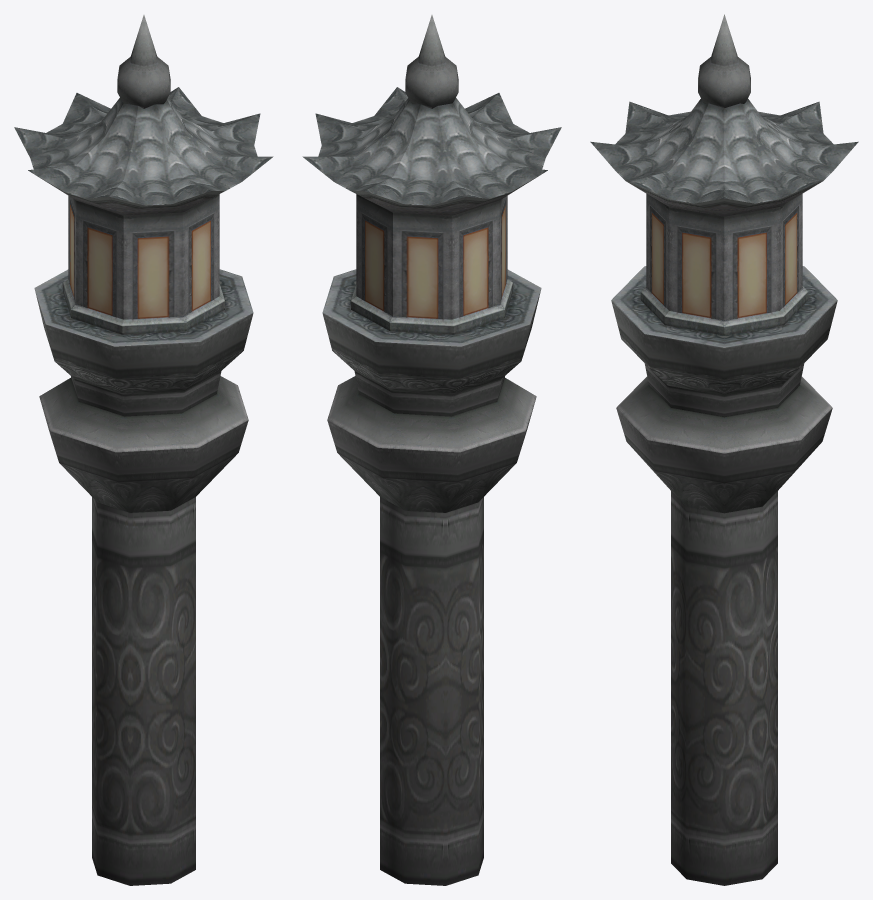
File: q01a_thing_03.FBX
3 renders of one model, left to right at view 1: azimuth 30°, elevation 25°; view 2: azimuth 150°, elevation 25°; view 3: azimuth 270°, elevation 25°, orthographic.
Visible parts, largest first — view 1: q01a_thing_03; view 2: q01a_thing_03; view 3: q01a_thing_03.
Boxes of the visible parts, x1,y1,x2,y2 form: q01a_thing_03: (14, 15, 273, 885); q01a_thing_03: (302, 15, 561, 885); q01a_thing_03: (590, 14, 858, 885).
Size of the model in its own units: 17.91 by 62.43 by 17.91.
